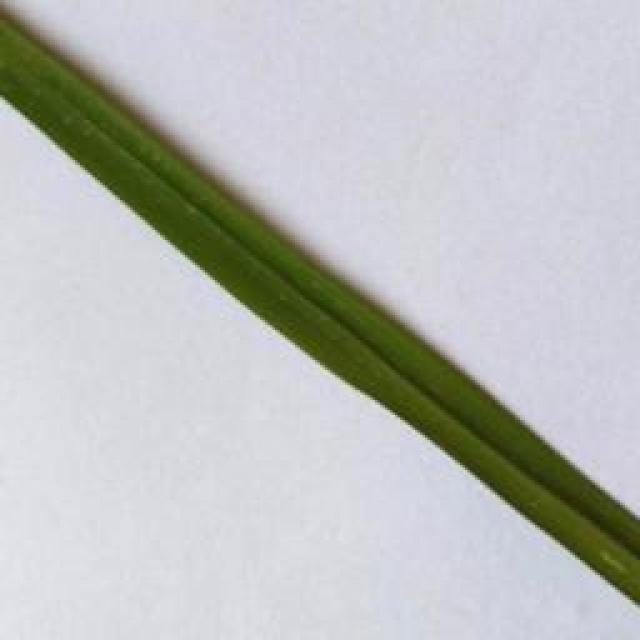Healthy-Plant: (0, 18, 640, 602)
